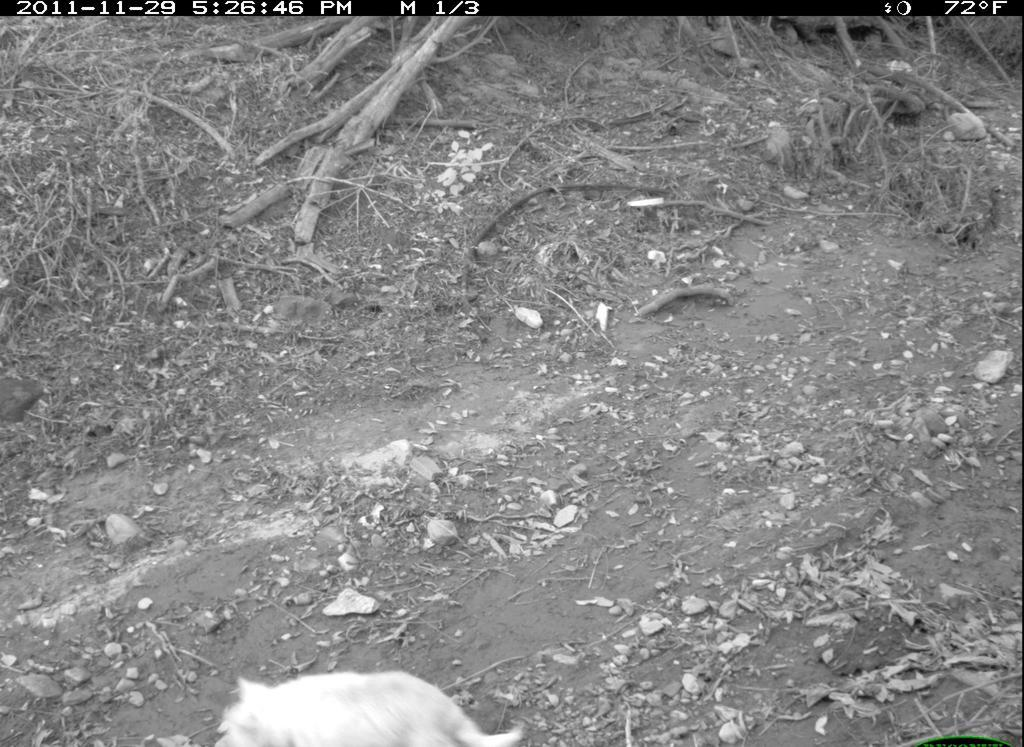dog: (213, 662, 530, 747)
